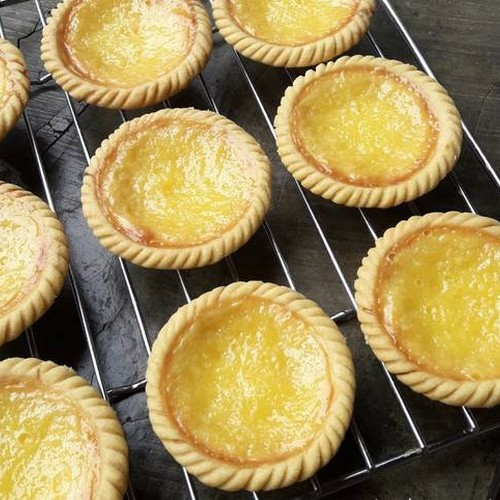pie susu: (126, 278, 380, 498), (341, 209, 500, 406), (260, 61, 470, 207), (89, 129, 288, 268), (7, 353, 151, 500)
